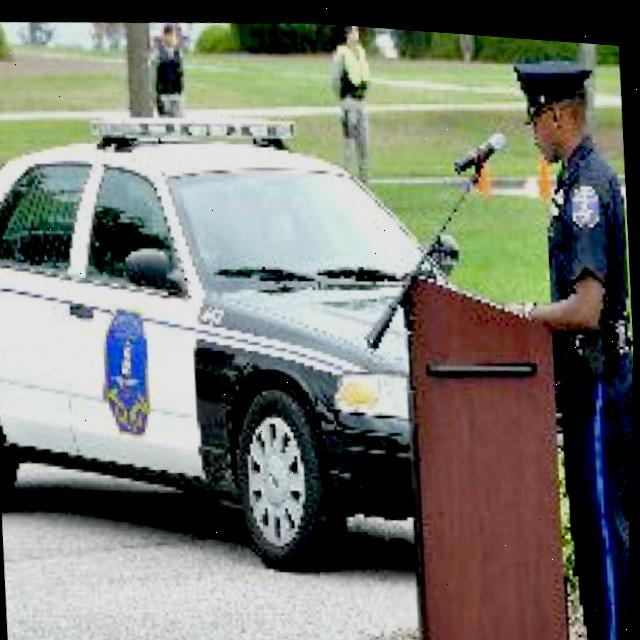emergency: (0, 84, 486, 599)
